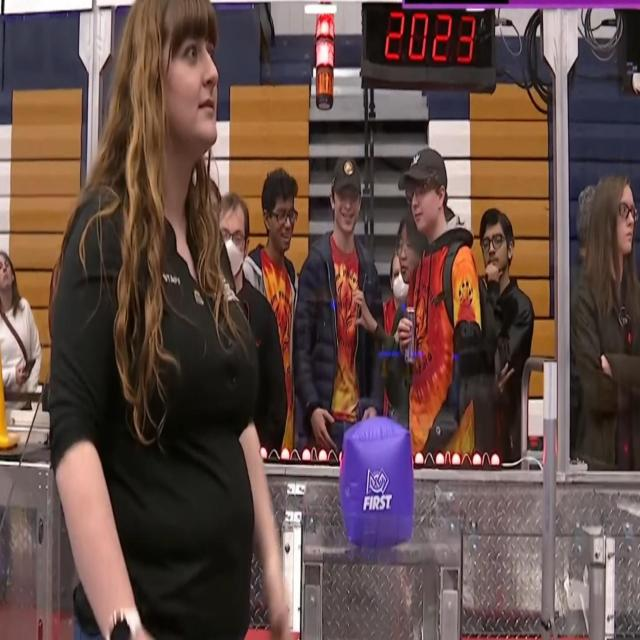frc_cone: (0, 305, 19, 452)
frc_cube: (341, 419, 415, 553)
